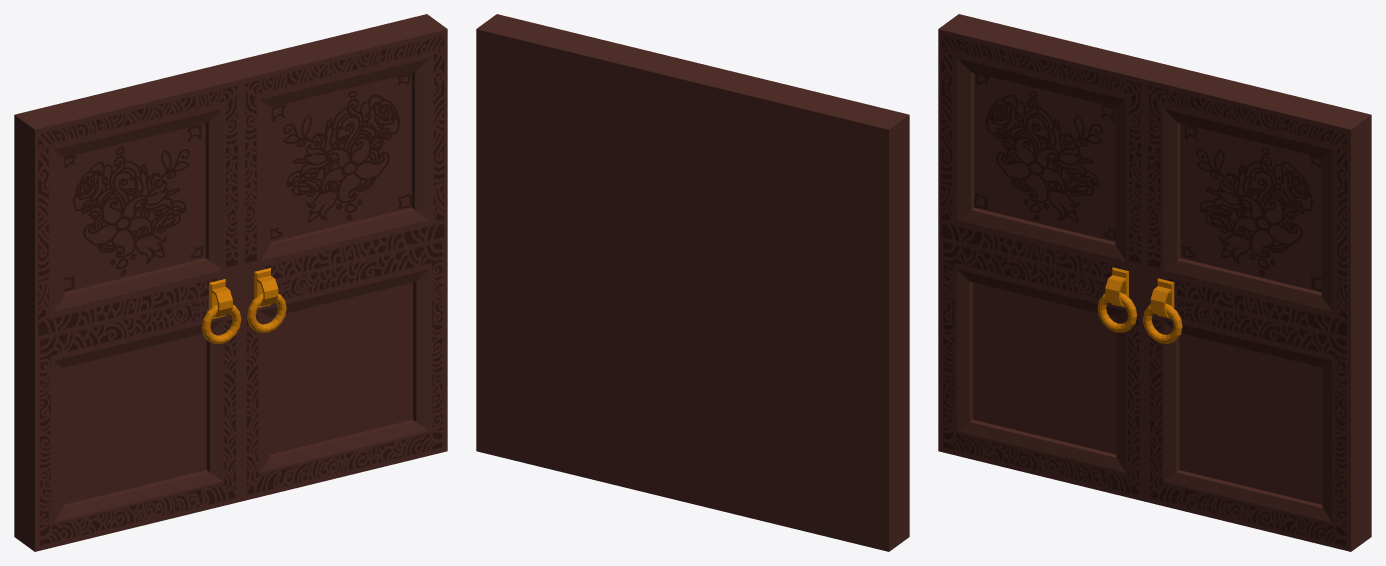
The model's file is porta.fbx.
3 renders of one model, left to right at view 1: azimuth 30°, elevation 25°; view 2: azimuth 150°, elevation 25°; view 3: azimuth 330°, elevation 25°, orthographic.
Visible parts, largest first — view 1: Cube, Torus.001, Torus, Plane.001, Plane; view 2: Cube; view 3: Cube, Torus.001, Torus, Plane.001, Plane.
Part boxes in pixels (<box>): Cube: <box>14,14,447,551</box>; Torus.001: <box>247,293,286,332</box>; Torus: <box>201,304,241,343</box>; Plane.001: <box>254,268,278,307</box>; Plane: <box>209,279,232,318</box>; Cube: <box>476,14,909,551</box>; Cube: <box>938,14,1371,551</box>; Torus.001: <box>1143,303,1182,343</box>; Torus: <box>1097,292,1137,332</box>; Plane.001: <box>1150,278,1174,318</box>; Plane: <box>1105,267,1128,307</box>.
Size of the model in its own units: 930 by 908 by 115.
